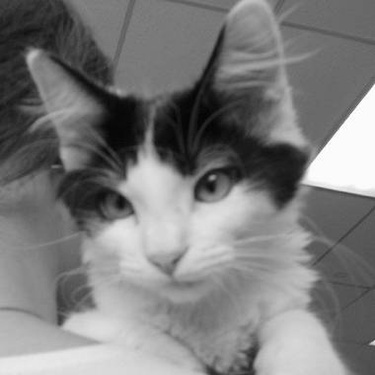cat: (26, 2, 348, 373)
